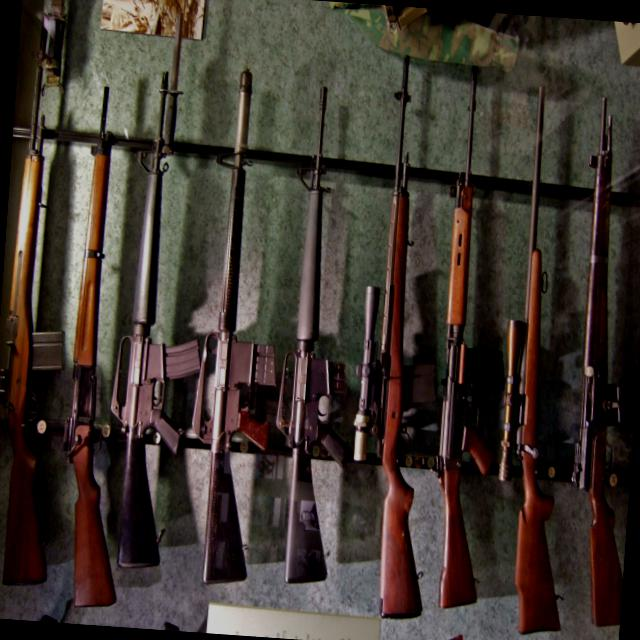long weapon: (467, 50, 595, 639), (332, 34, 455, 630), (400, 42, 518, 632), (242, 64, 364, 617), (529, 61, 639, 639), (40, 69, 150, 626), (182, 52, 292, 608), (104, 46, 205, 588), (0, 7, 83, 610)
